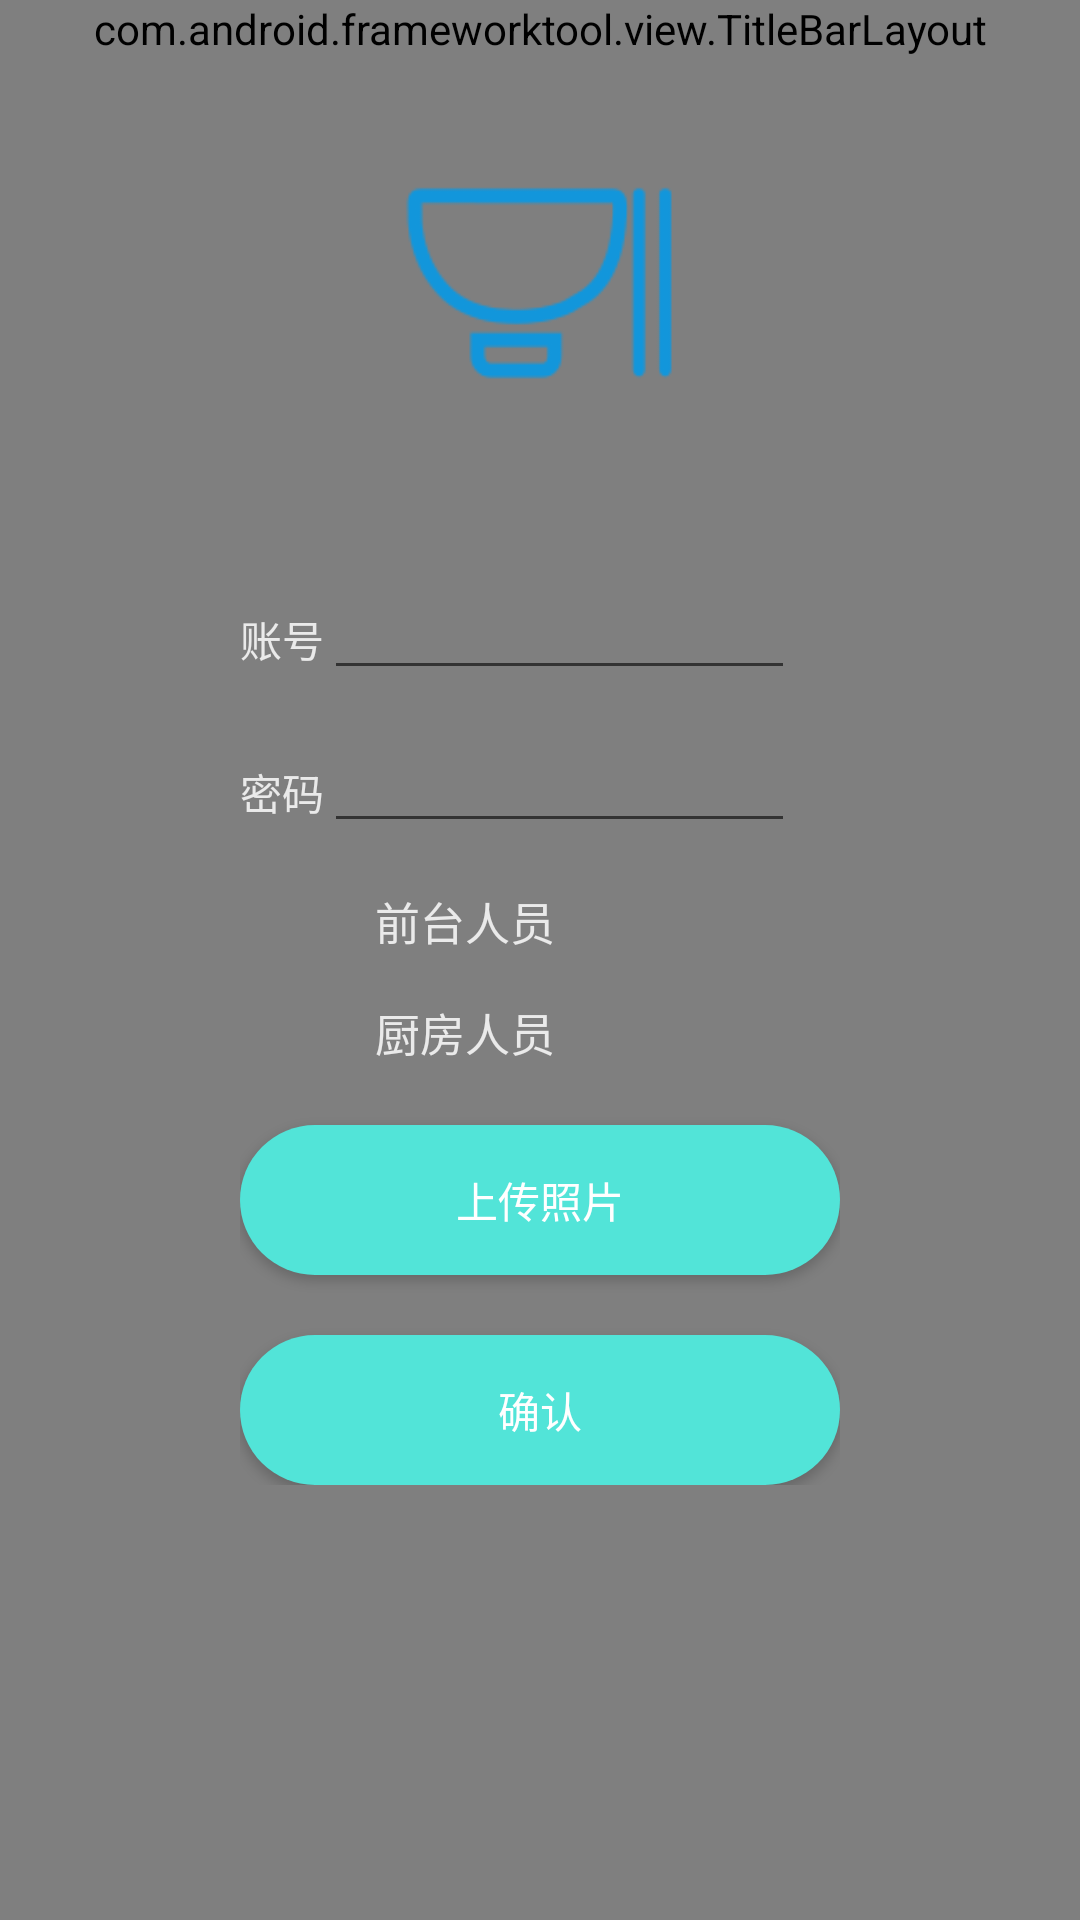

Where to tap for icons on this 1080*1920 app screen, as point (x, y):
diancan: point (539, 283)
